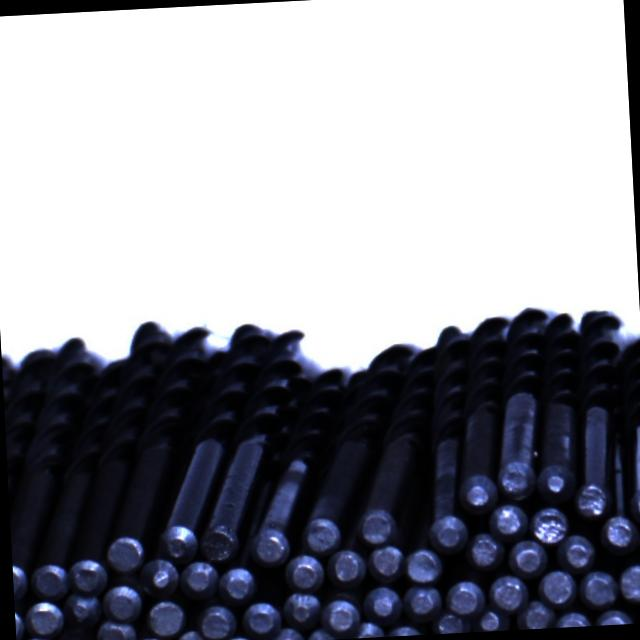tool: (464, 530, 506, 572), (494, 461, 536, 502), (242, 598, 282, 640), (458, 472, 498, 514), (599, 513, 639, 555), (103, 583, 144, 623), (510, 537, 550, 578), (580, 568, 620, 609), (488, 573, 529, 613), (362, 584, 402, 625), (328, 548, 369, 588), (430, 514, 471, 554), (180, 560, 220, 600), (539, 569, 579, 609), (528, 505, 568, 545), (218, 564, 258, 604), (402, 582, 442, 622), (284, 552, 324, 592), (140, 557, 180, 597), (574, 482, 614, 522), (357, 506, 397, 546), (250, 526, 290, 566), (320, 597, 361, 636), (104, 534, 146, 572), (282, 592, 322, 631), (556, 534, 596, 573), (488, 503, 528, 542), (302, 515, 342, 554), (31, 562, 71, 600), (26, 598, 66, 636), (446, 578, 486, 616), (404, 545, 444, 583), (366, 544, 404, 584), (68, 558, 108, 596), (162, 522, 200, 562), (147, 600, 186, 638), (198, 604, 238, 640), (539, 464, 576, 502), (64, 594, 102, 628), (516, 599, 556, 630), (432, 610, 472, 634), (618, 561, 640, 602), (95, 619, 137, 640), (479, 606, 510, 632), (594, 607, 636, 626), (555, 609, 595, 628), (348, 620, 385, 639), (12, 560, 29, 600), (385, 622, 424, 637), (265, 626, 305, 640), (305, 626, 341, 640), (629, 486, 640, 526), (174, 629, 212, 640), (14, 605, 24, 640), (217, 633, 258, 640), (128, 635, 173, 640), (56, 636, 96, 640), (17, 636, 55, 640)
